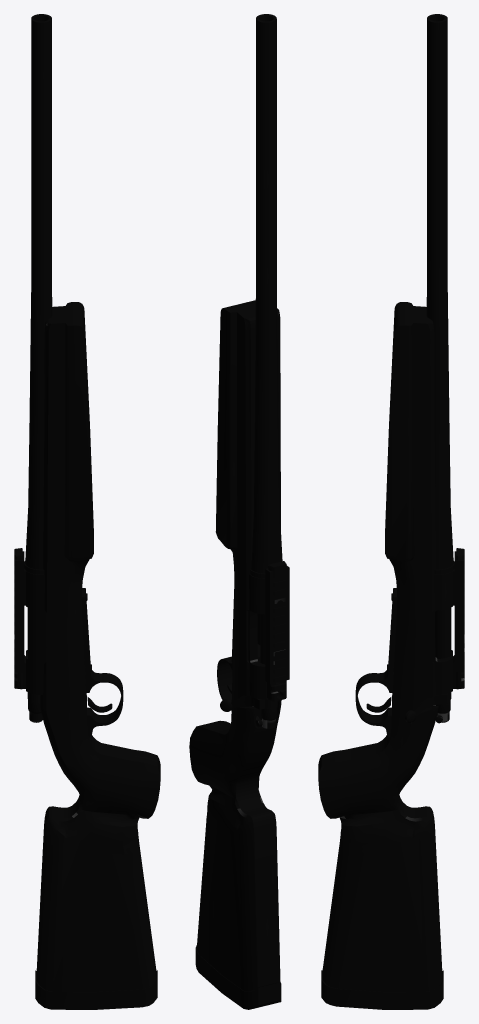
The model's file is Rem700__Mount_ScopeBase.fbx.
3 renders of one model, left to right at view 1: azimuth 90°, elevation 25°; view 2: azimuth 210°, elevation 25°; view 3: azimuth 270°, elevation 25°, orthographic.
Visible parts, largest first — view 1: asset_Rem700.001; view 2: asset_Rem700.001; view 3: asset_Rem700.001.
Boxes of the visible parts, x1,y1,x2,y2 form: asset_Rem700.001: (14, 14, 160, 1009); asset_Rem700.001: (189, 14, 289, 1009); asset_Rem700.001: (318, 14, 464, 1009).
Bounding box in the file's own units: 0.0372 × 0.636 × 0.0857.
